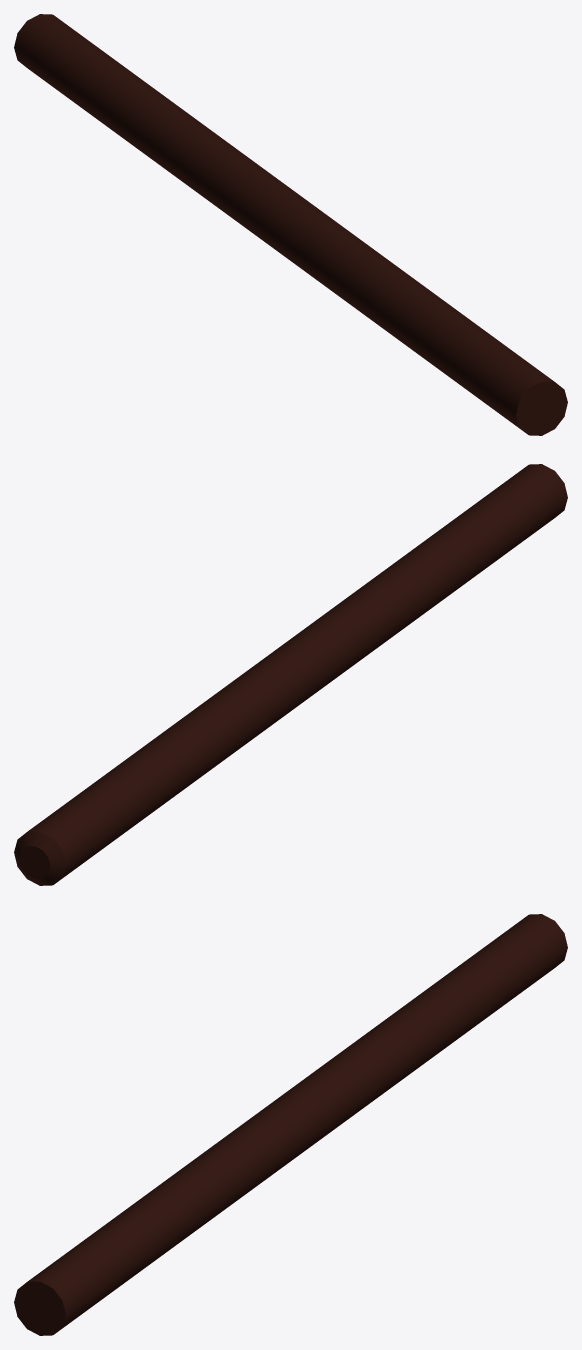
Rendered from BateauPart_Part_5.fbx.
The picture shows the model from 3 angles, top to bottom: view 1: azimuth 30°, elevation 25°; view 2: azimuth 150°, elevation 25°; view 3: azimuth 330°, elevation 25°; orthographic projection.
Parts seen in each view (by area): view 1: BateauPart_Part_5; view 2: BateauPart_Part_5; view 3: BateauPart_Part_5.
Part boxes in pixels (bbox=[...]): BateauPart_Part_5: bbox=[14, 14, 567, 435]; BateauPart_Part_5: bbox=[14, 464, 567, 885]; BateauPart_Part_5: bbox=[14, 914, 567, 1335].
Bounding box in the file's own units: 6.43 × 6.43 × 109.
